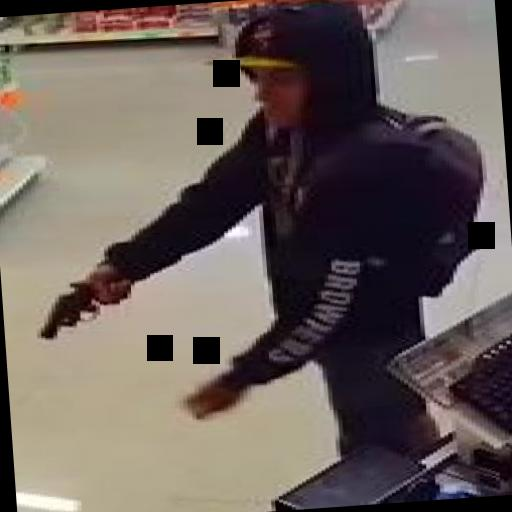Handgun: (29, 274, 130, 338)
